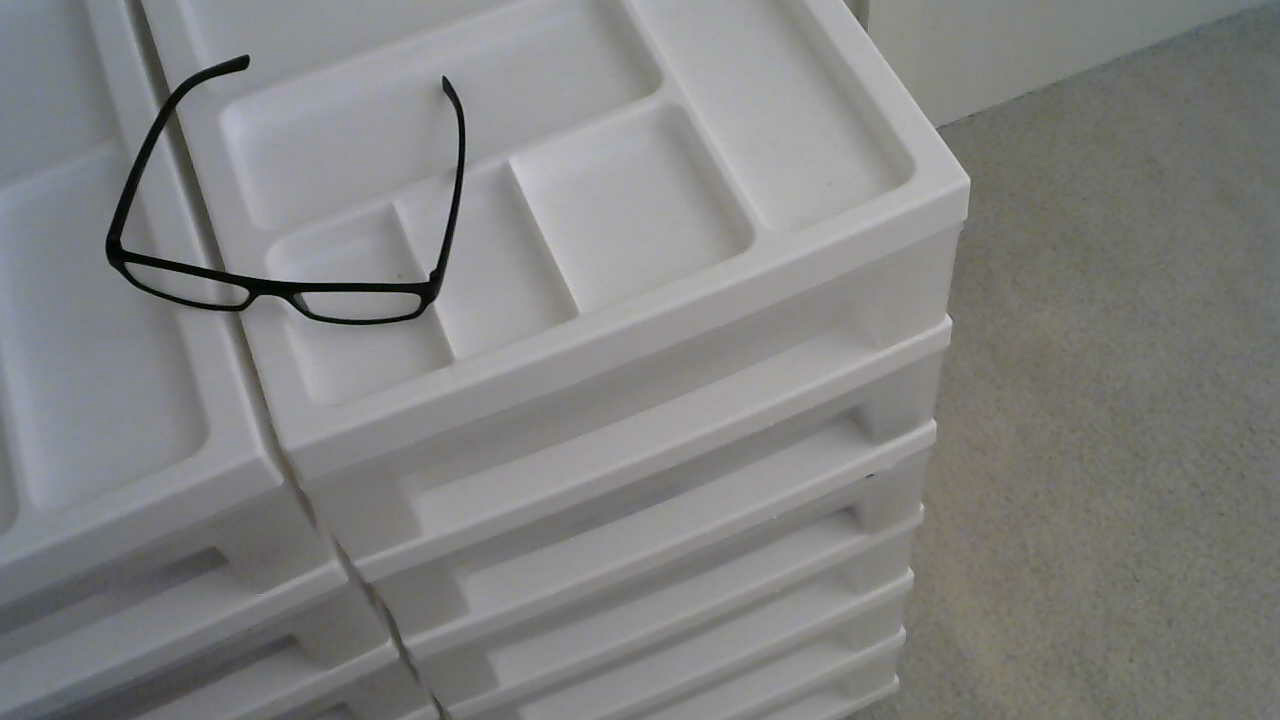Glasses: (100, 37, 477, 348)
